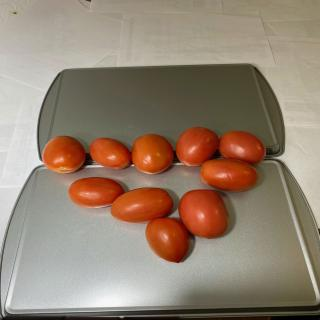Chilli: (41, 125, 267, 263)
Tomato: (178, 189, 230, 239), (110, 187, 173, 224), (145, 217, 190, 263), (200, 158, 260, 192), (68, 177, 125, 208), (175, 126, 219, 166), (131, 134, 174, 174), (218, 130, 266, 164), (42, 136, 86, 173), (89, 138, 131, 170)
